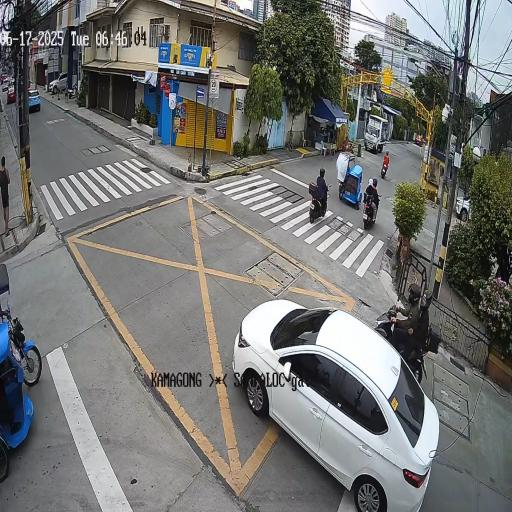Car: (218, 295, 442, 512)
Motor: (372, 260, 440, 381), (304, 164, 332, 238), (361, 172, 388, 236), (376, 138, 395, 184)
